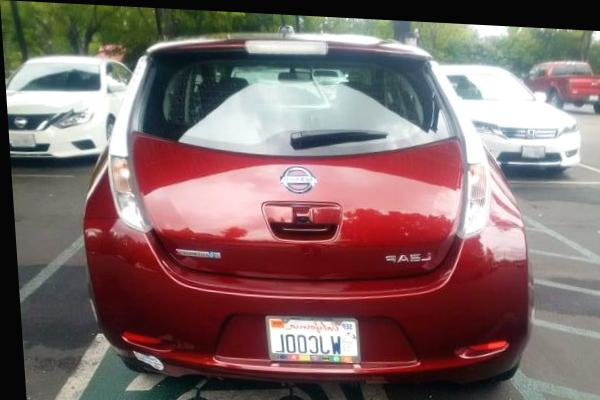License_Plate: (264, 314, 362, 367)
